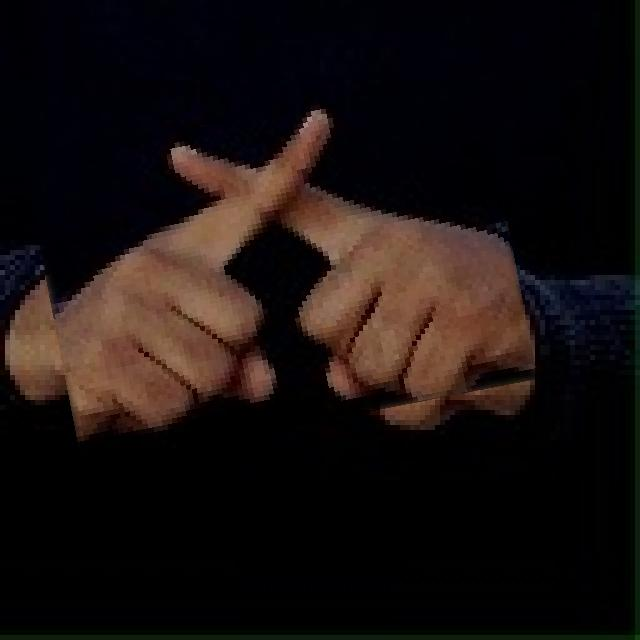X: (35, 88, 525, 446)
